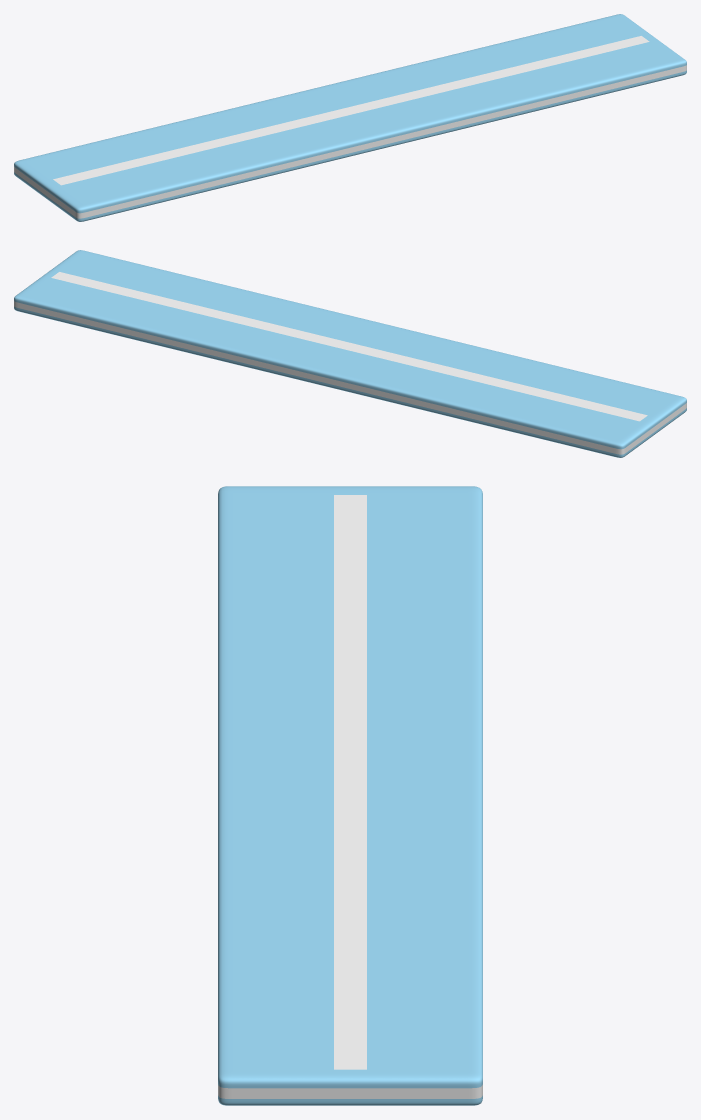
Rendered from SliderFieldFBX.fbx.
3 renders of one model, top to bottom at view 1: azimuth 30°, elevation 25°; view 2: azimuth 150°, elevation 25°; view 3: azimuth 270°, elevation 25°, orthographic. The views are drawn at different scales.
Visible parts, largest first — view 1: Mesh; view 2: Mesh; view 3: Mesh.
Part boxes in pixels (x1,y1,x2,y2): Mesh: (14, 14, 686, 221); Mesh: (14, 250, 686, 457); Mesh: (218, 486, 482, 1105).
Size of the model in its own units: 21.2 by 0.479 by 3.99.
1 material, 1 textured.
